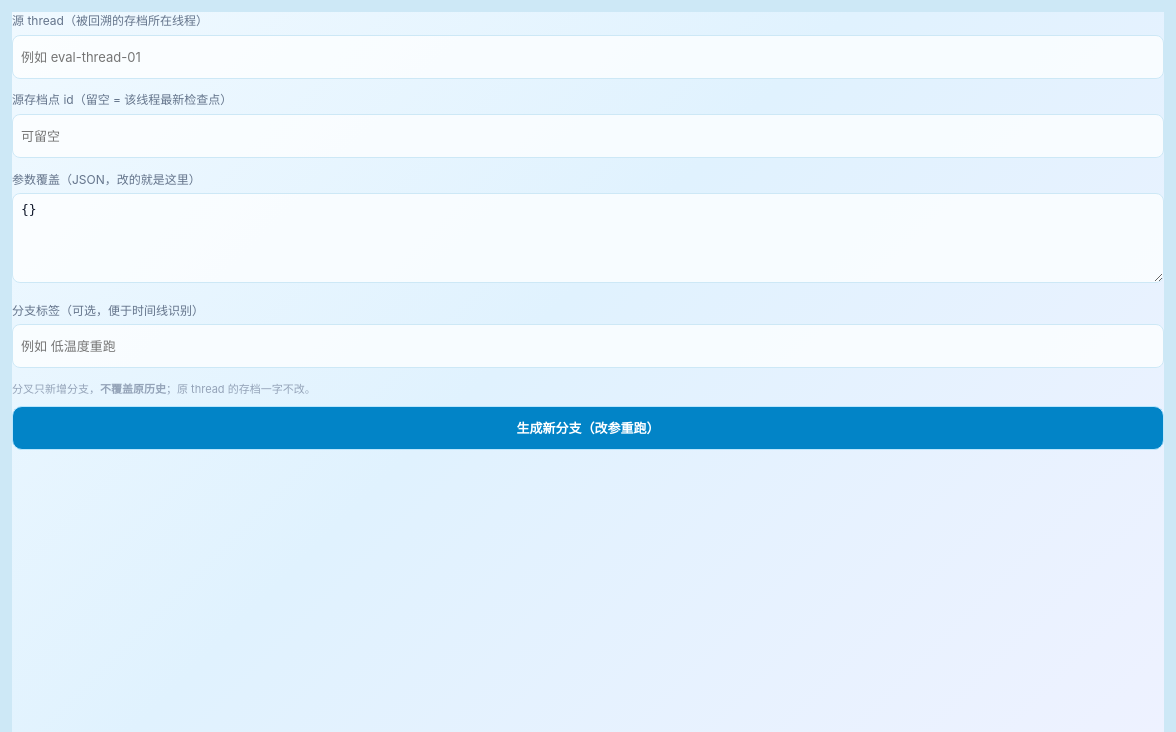
Test: ForkForm（A-存档回溯-04） › rejects empty thread id
Click the button with test id "fork-submit". click: point(588, 428)
box: x1=12 y1=406 x2=1164 y2=450
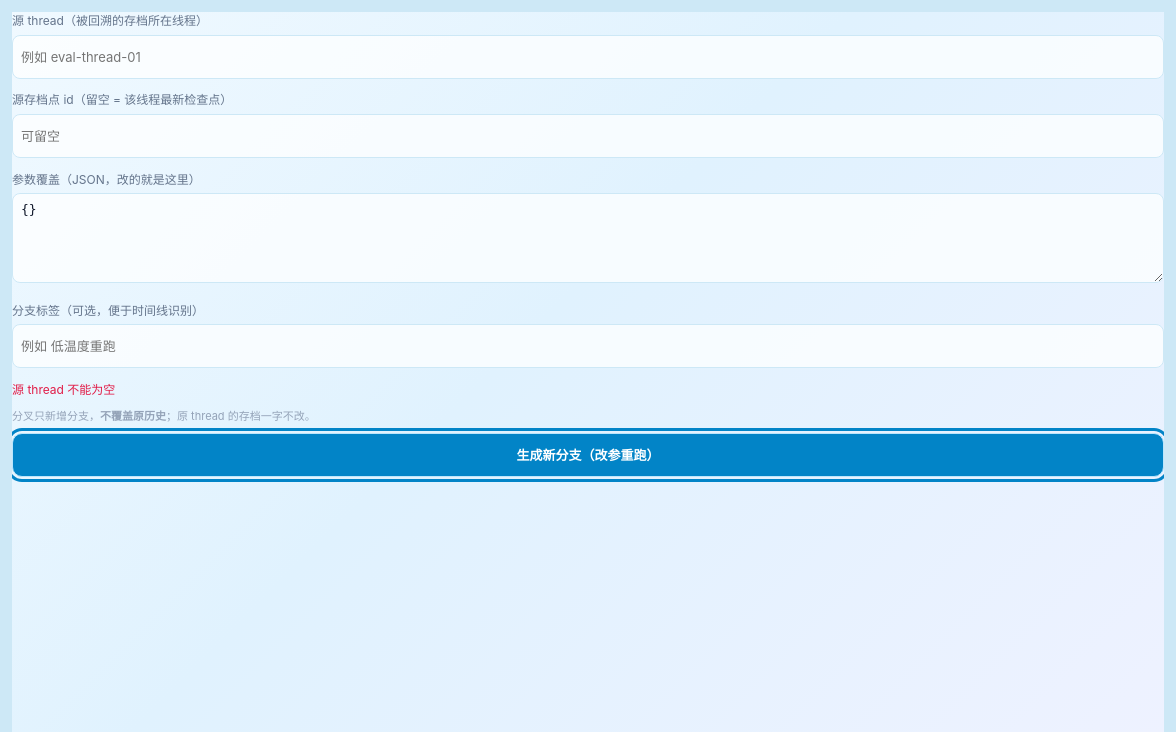
Check: the text with test id "fork-form-error" reads "源 thread 不能为空", box x1=12 y1=382 x2=115 y2=397
